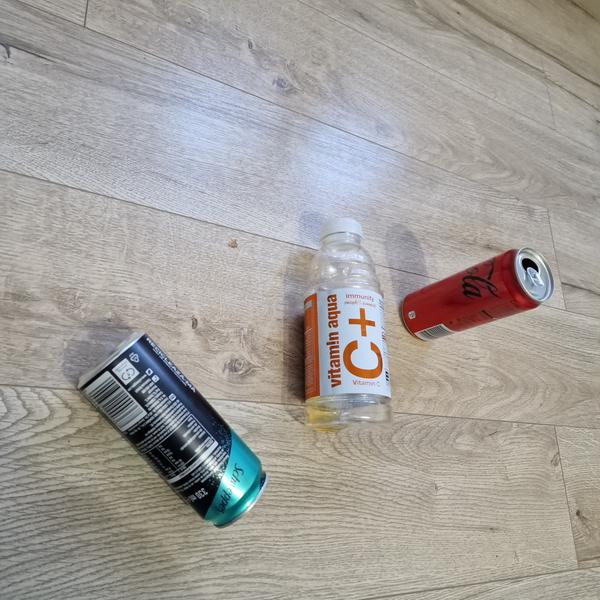can: (72, 323, 284, 542), (394, 237, 565, 358)
plastic_bottle: (304, 218, 393, 432)
